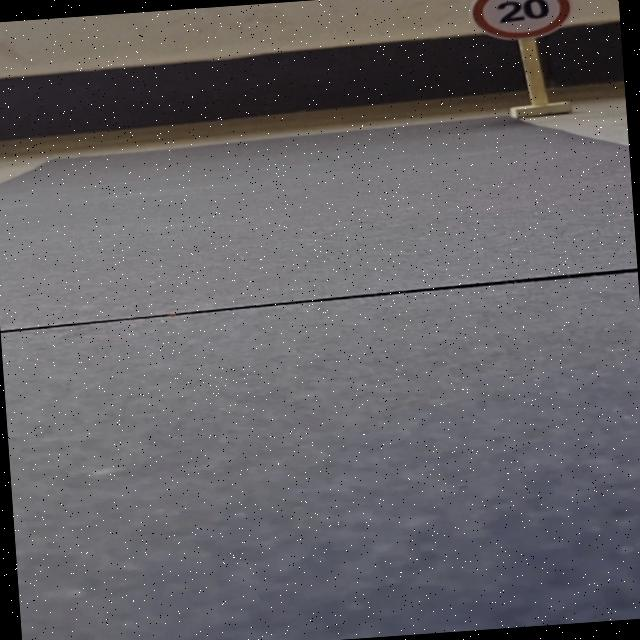Speed20: (459, 0, 581, 48)
